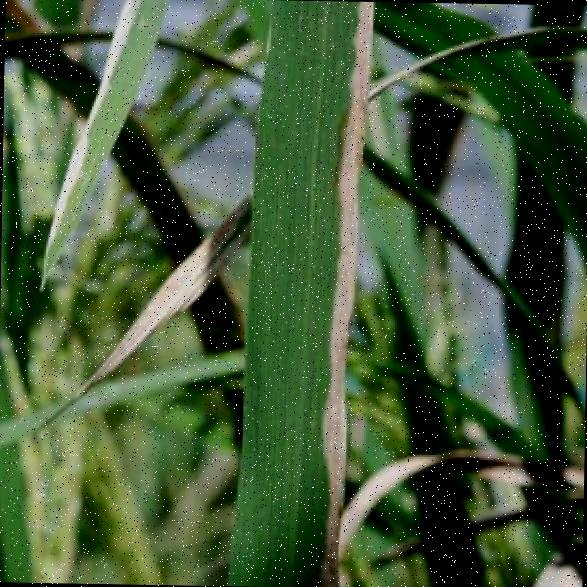Bacteria_Leaf_Blight: (237, 0, 361, 586), (34, 80, 111, 286)
